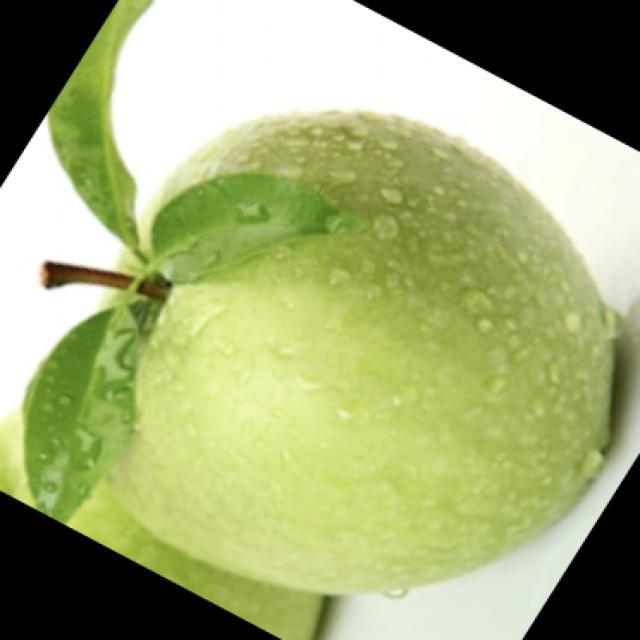Fresh Apple: (128, 115, 624, 583)
